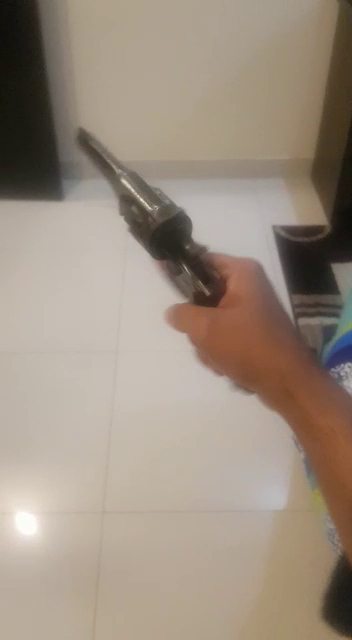handgun: (45, 99, 339, 459)
